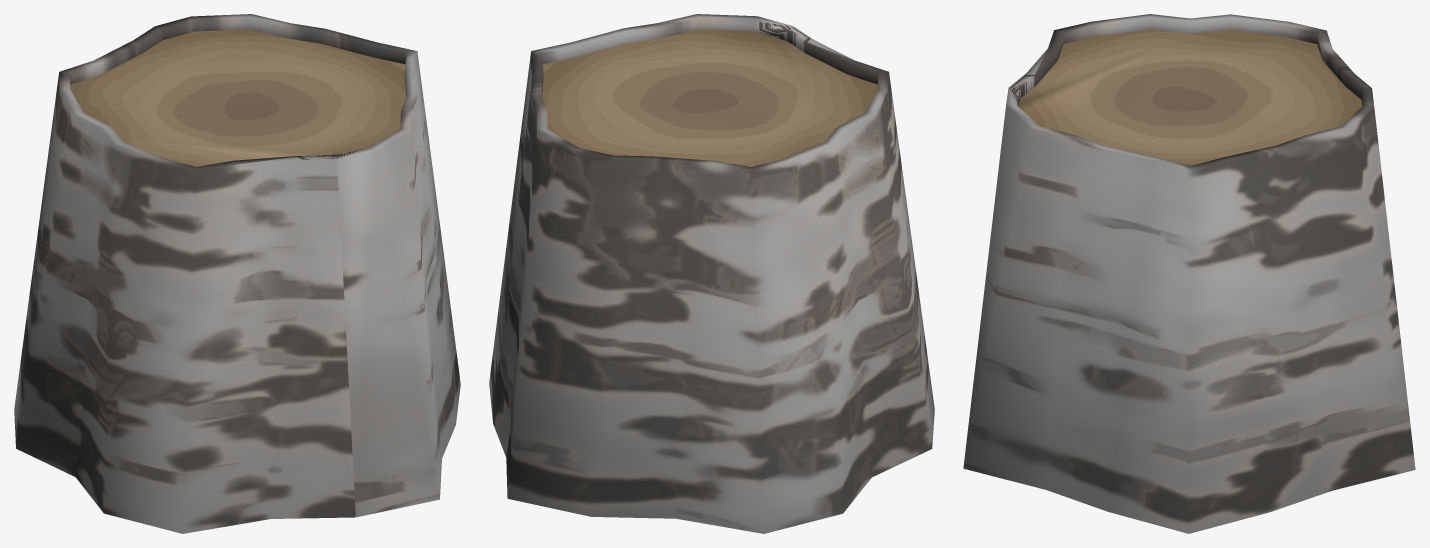
Rendered from tree07_trunk.fbx.
The picture shows the model from 3 angles, left to right: view 1: azimuth 30°, elevation 25°; view 2: azimuth 150°, elevation 25°; view 3: azimuth 270°, elevation 25°; orthographic projection.
Parts seen in each view (by area): view 1: tree.009; view 2: tree.009; view 3: tree.009.
Part boxes in pixels (<box>): tree.009: <box>14,14,460,533</box>; tree.009: <box>489,14,934,533</box>; tree.009: <box>963,14,1415,533</box>.
Bounding box in the file's own units: 46.8 × 38.38 × 45.97.
